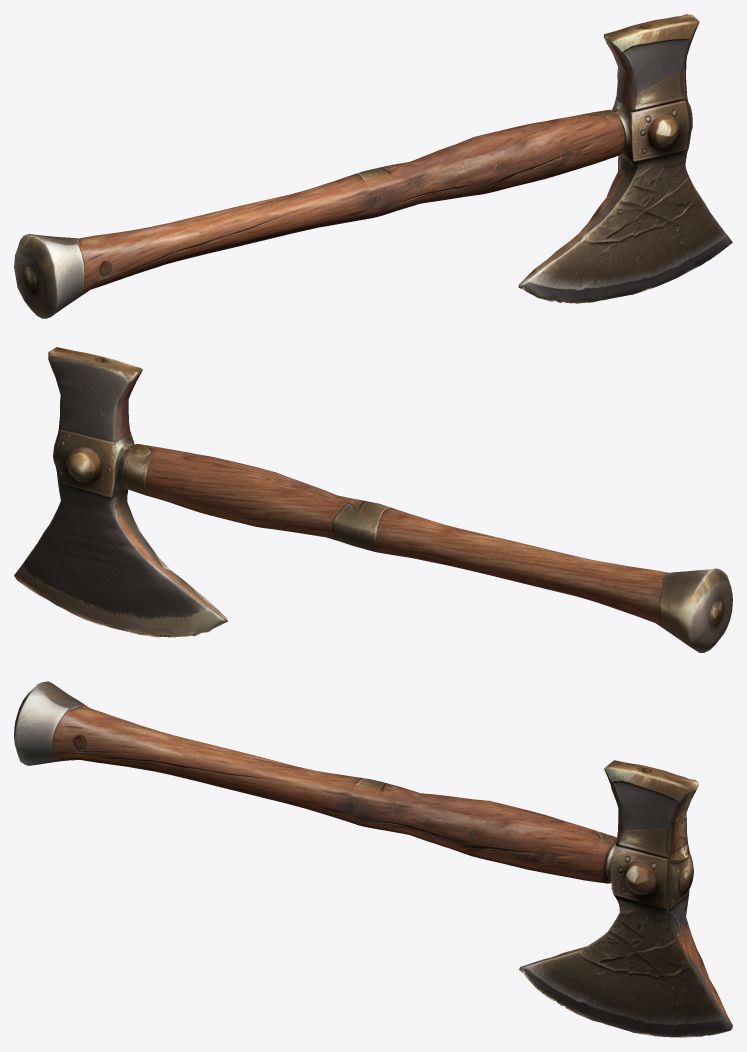
Rendered from bronze_axe.glb.
The picture shows the model from 3 angles, top to bottom: view 1: azimuth 30°, elevation 25°; view 2: azimuth 150°, elevation 25°; view 3: azimuth 330°, elevation 25°; orthographic projection.
Size of the model in its own units: 2.01 by 0.7259 by 0.2119.
Materials: 1 (1 with a texture image).
